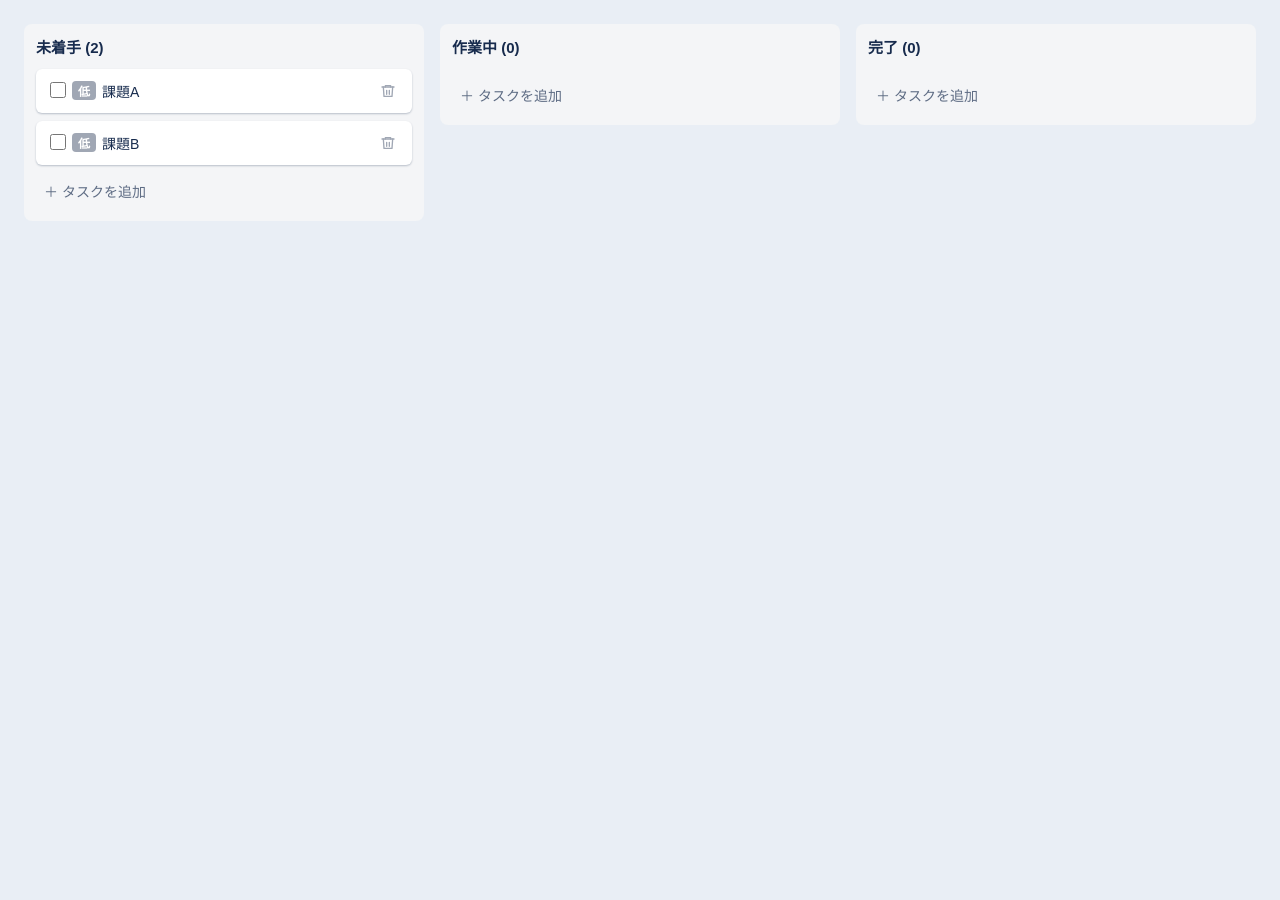
Test: ボードのゴミ箱マーク › 「OK」を押すと削除し、リストの枚数が1減る
Click the button named "課題A を削除". click: (388, 91)
box: [378, 81, 398, 101]
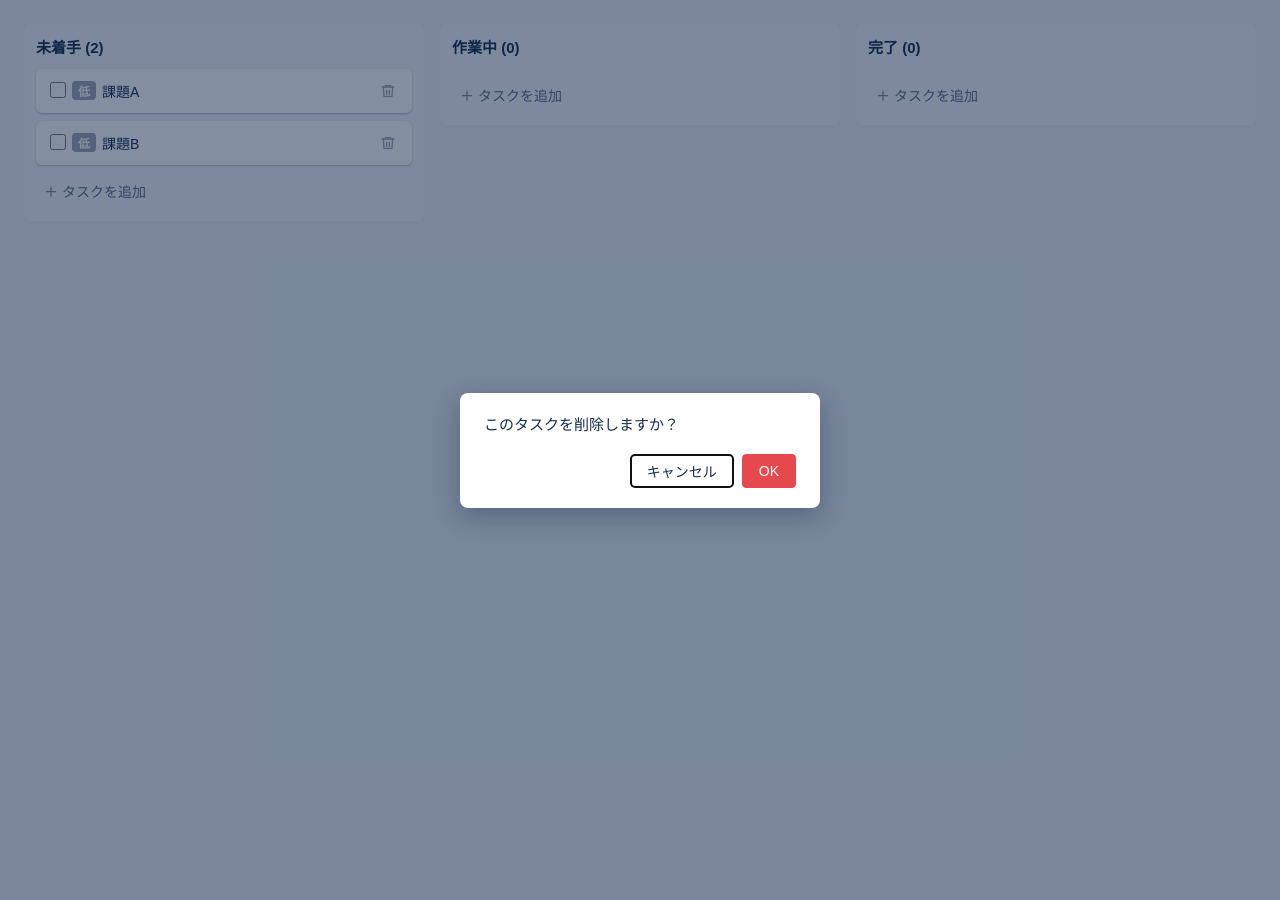
Click the button "OK". click: (769, 470)
box: [742, 454, 796, 488]
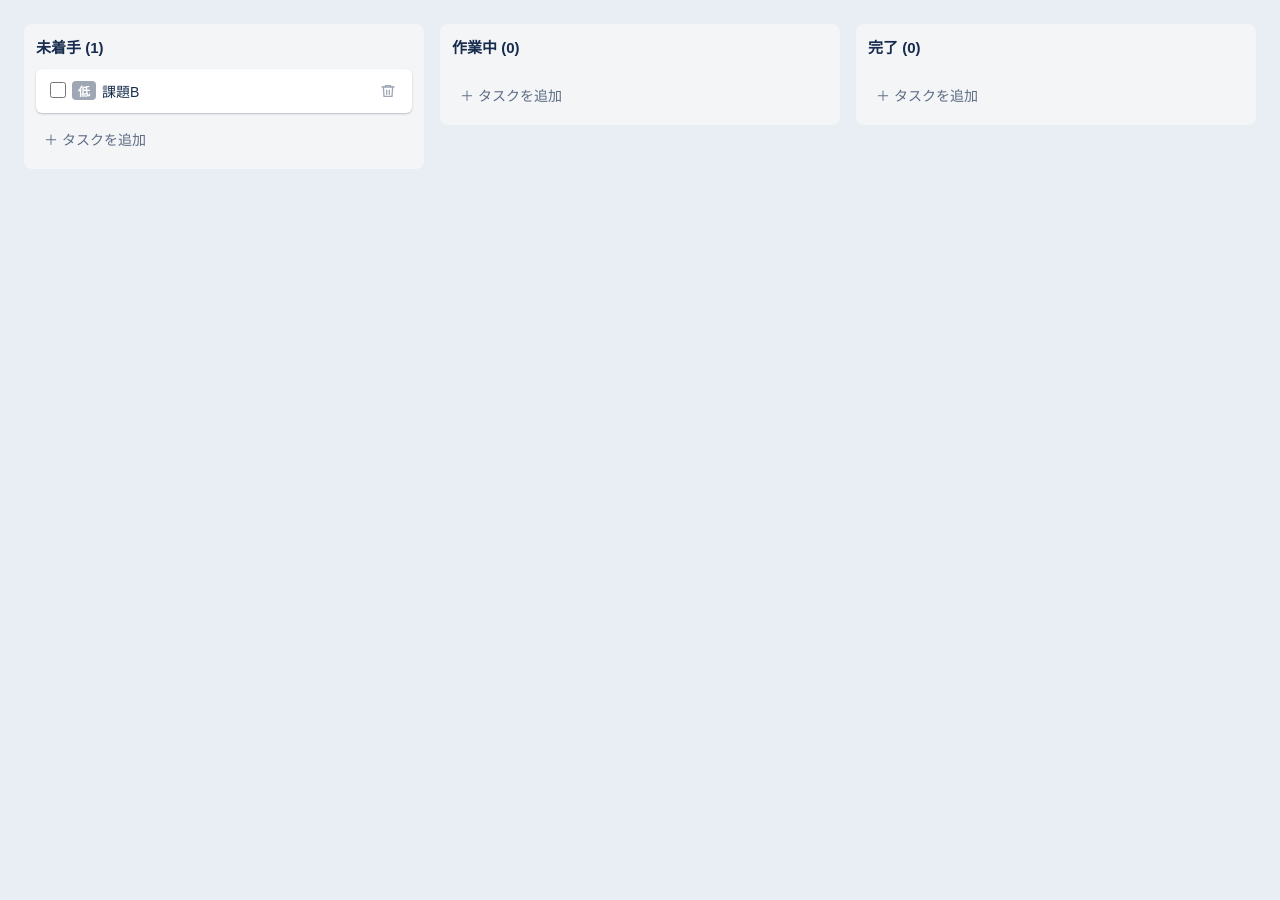
Now the dialog is gone
Now the heading "未着手 (1)" is shown, box [36, 39, 104, 56]
